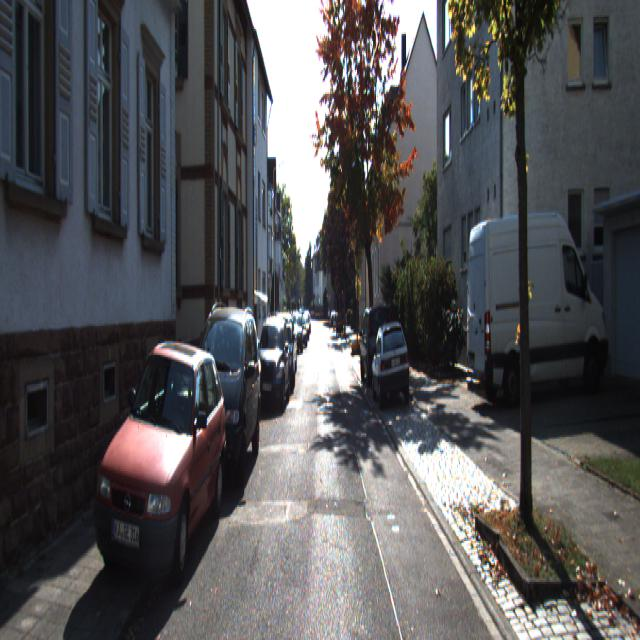Car: (85, 334, 231, 606), (463, 203, 612, 413), (182, 298, 267, 496), (252, 308, 292, 414), (369, 318, 412, 412), (358, 301, 394, 388), (270, 312, 296, 394)
